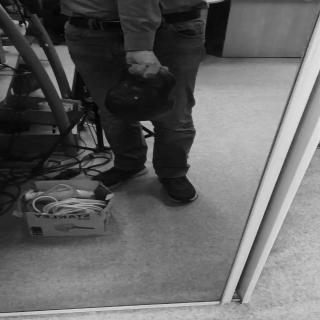kettlebell: (105, 64, 178, 122)
